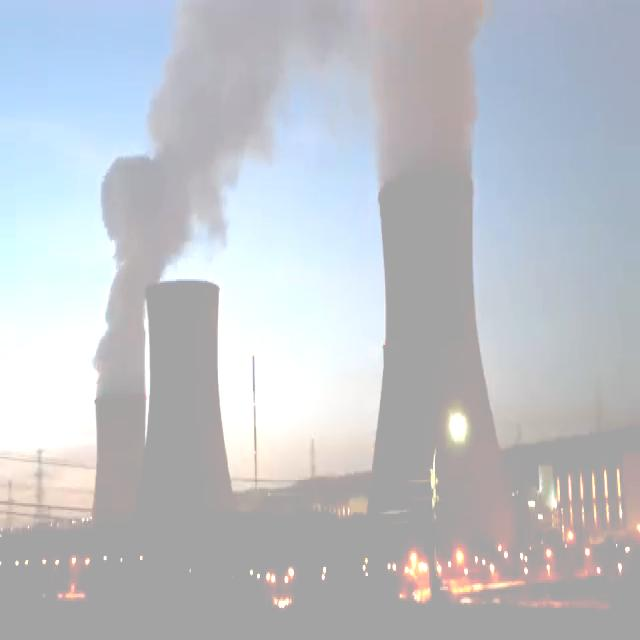smoke: (94, 0, 354, 396), (370, 0, 483, 187)
